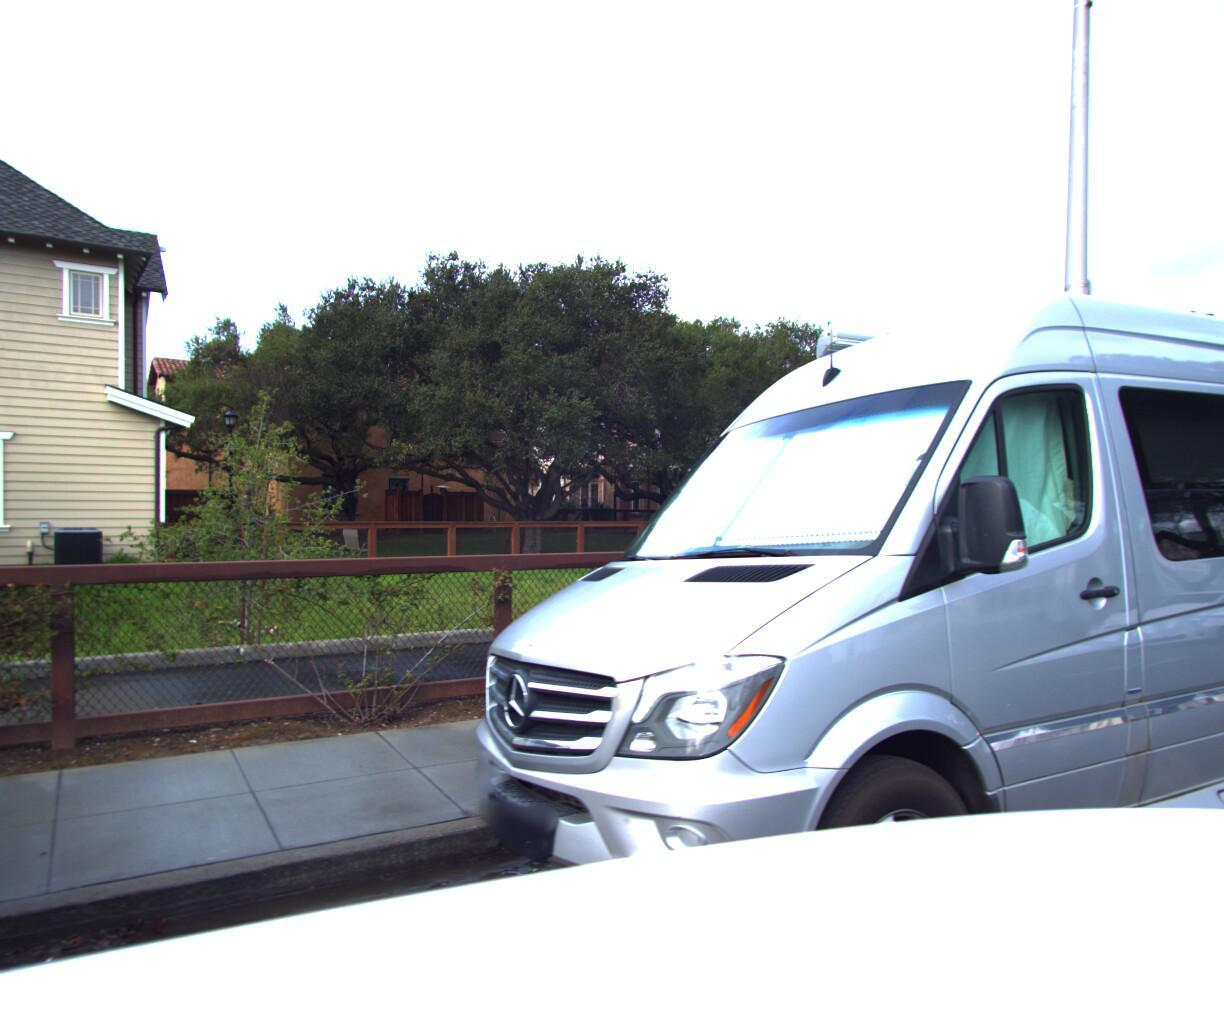car: (394, 0, 1224, 1024)
